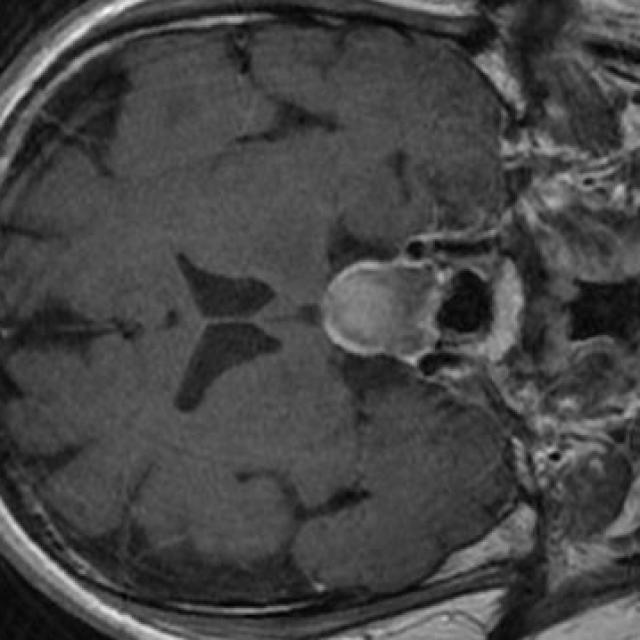pituitary: (323, 260, 449, 365)
